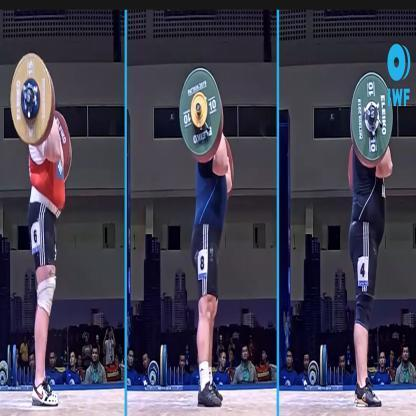barbell: (178, 69, 225, 164), (10, 54, 56, 147), (350, 73, 394, 169)
